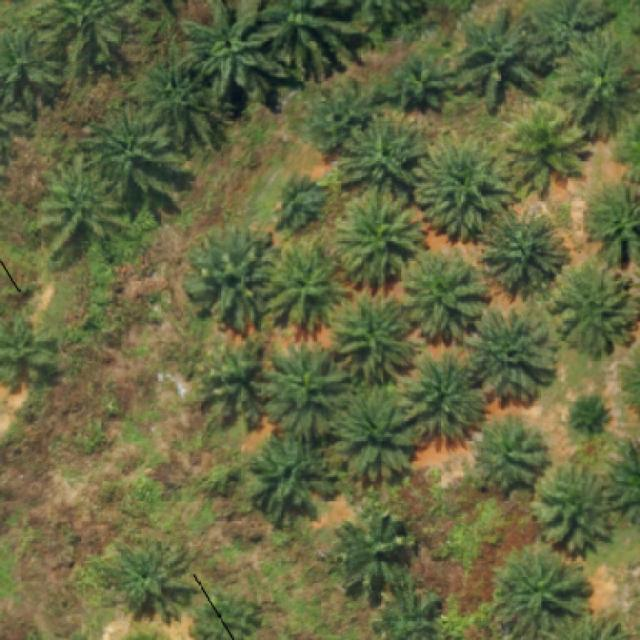Kelapa_Sawit: (124, 30, 233, 155), (456, 5, 569, 114), (412, 128, 517, 245), (80, 98, 186, 207), (186, 222, 282, 336), (254, 338, 351, 440), (327, 380, 421, 483), (496, 544, 596, 640), (466, 303, 559, 405), (335, 185, 430, 283), (554, 30, 640, 138), (34, 152, 124, 255), (547, 259, 640, 358), (332, 289, 426, 386), (260, 238, 351, 337), (398, 346, 488, 445), (101, 534, 201, 623), (482, 200, 570, 298), (402, 245, 489, 344), (501, 103, 594, 195), (252, 432, 342, 526), (332, 510, 418, 602), (340, 108, 431, 192), (193, 334, 272, 426), (536, 460, 615, 552), (471, 414, 551, 494), (307, 81, 376, 153), (382, 52, 456, 110), (276, 169, 327, 231), (569, 394, 608, 438)
